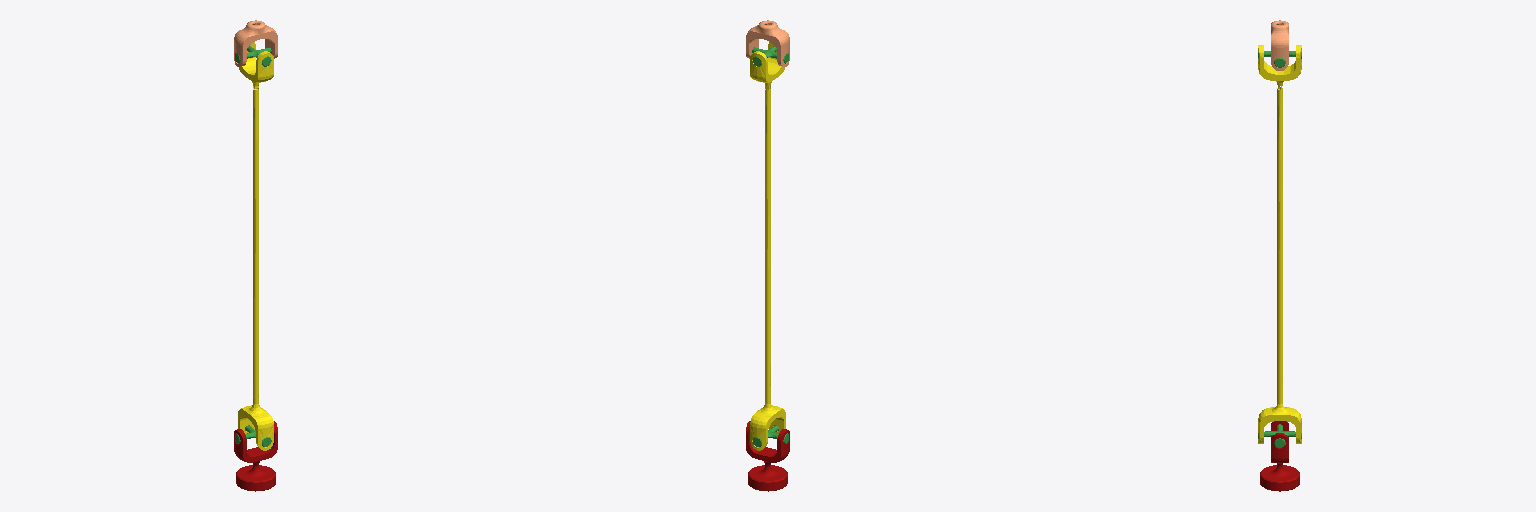
URDF robot description (armhum6):
<?xml version="1.0" encoding="utf-8"?>
<!-- This URDF was automatically created by SolidWorks to URDF Exporter! Originally created by Stephen Brawner ([email redacted]) 
     Commit Version: 1.6.0-1-g15f4949  Build Version: 1.6.7594.29634
     For more information, please see http://wiki.ros.org/sw_urdf_exporter -->
<robot
  name="armhum6">

<!--
  <link name="world" /> 
  <joint name="world_to_base_link" type="fixed">
    <parent link="world"/>
    <child link="base_link"/>
    <origin xyz="0 0 0.85" rpy="0 0 0"/>
  </joint>

  <link
    name="base_link">
    <inertial>
      <origin
        xyz="1.93248195223816E-15 -8.85402862138562E-15 -0.185059211902818"
        rpy="0 0 0" />
      <mass
        value="0.523412725104608" />
      <inertia
        ixx="0.0910156280985819"
        ixy="-1.89735380184971E-16"
        ixz="2.8165359896208E-17"
        iyy="0.0910136332593244"
        iyz="-4.53168684381061E-16"
        izz="0.126397324140064" />
    </inertial>
    <visual>
      <origin
        xyz="0 0 0"
        rpy="0 0 0" />
      <geometry>
        <mesh
          filename="package://armhum6/meshes/base_link.STL" />
      </geometry>
      <material
        name="">
        <color
          rgba="0.00784313725490196 0.23921568627451 0.823529411764706 1" />
      </material>
    </visual>
    <collision>
      <origin
        xyz="0 0 0"
        rpy="0 0 0" />
      <geometry>
        <mesh
          filename="package://armhum6/meshes/base_link.STL" />
      </geometry>
    </collision>
  </link>
  -->

  <link
    name="top-link">
    <inertial>
      <origin
        xyz="-4.67723785742002E-05 2.30554230845614E-08 0.0232375072219701"
        rpy="0 0 0" />
      <mass
        value="0.00734463434724172" />
      <inertia
        ixx="6.66675171615578E-07"
        ixy="2.37767693918994E-12"
        ixz="-1.96968750445307E-10"
        iyy="1.59431490534566E-06"
        iyz="2.24673253636865E-12"
        izz="1.2315954297594E-06" />
    </inertial>
    <visual>
      <origin
        xyz="0 0 0"
        rpy="0 0 0" />
      <geometry>
        <mesh
          filename="package://armhum6/meshes/top-link.STL" />
      </geometry>
      <material
        name="">
        <color
          rgba="1 0.690196078431373 0.509803921568627 1" />
      </material>
    </visual>
    <collision>
      <origin
        xyz="0 0 0"
        rpy="0 0 0" />
      <geometry>
        <mesh
          filename="package://armhum6/meshes/top-link.STL" />
      </geometry>
    </collision>
  </link>
<!--
  <joint
    name="joint1"
    type="continuous">
    <origin
      xyz="0 0 -0.051"
      rpy="0 0 0.0209138165636579" />
    <parent
      link="base_link" />
    <child
      link="top-link" />
    <axis
      xyz="0 0 1" />
    <limit
      lower="0"
      upper="6"
      effort="0"
      velocity="0" />
    <dynamics
      friction="0.008" />
  </joint>
-->
  <link
    name="crossbar1">
    <inertial>
      <origin
        xyz="1.00137396916167E-08 8.56077458921689E-10 6.40373767901714E-10"
        rpy="0 0 0" />
      <mass
        value="0.00235911157708547" />
      <inertia
        ixx="2.29651648984905E-07"
        ixy="8.58509279831178E-15"
        ixz="4.33752665624393E-15"
        iyy="4.41657972153878E-07"
        iyz="8.84534542379393E-16"
        izz="2.29651496122624E-07" />
    </inertial>
    <visual>
      <origin
        xyz="0 0 0"
        rpy="0 0 0" />
      <geometry>
        <mesh
          filename="package://armhum6/meshes/crossbar1.STL" />
      </geometry>
      <material
        name="">
        <color
          rgba="0.286274509803922 0.662745098039216 0.329411764705882 1" />
      </material>
    </visual>
    <collision>
      <origin
        xyz="0 0 0"
        rpy="0 0 0" />
      <geometry>
        <mesh
          filename="package://armhum6/meshes/crossbar1.STL" />
      </geometry>
    </collision>
  </link>
  
  <joint
    name="joint2"
    type="revolute">
    <origin
      xyz="0 0 0.008"
      rpy="1.5708 0 0" />
    <parent
      link="top-link" />
    <child
      link="crossbar1" />
    <axis
      xyz="1 0 0" />
    <limit
      lower="-1.5"
      upper="1.5"
      effort="2"
      velocity="2" />
    <dynamics
      friction="0.008" />
  </joint>
  <link
    name="middle-link">
    <inertial>
      <origin
        xyz="-3.62208064747099E-05 2.10896379700121E-08 -0.182316330263296"
        rpy="0 0 0" />
      <mass
        value="0.0188050348545265" />
      <inertia
        ixx="0.000409979396090837"
        ixy="8.57838434093389E-11"
        ixz="-1.17762824236184E-09"
        iyy="0.000411743915509089"
        iyz="4.54699290001078E-11"
        izz="2.29220461469508E-06" />
    </inertial>
    <visual>
      <origin
        xyz="0 0 0"
        rpy="0 0 0" />
      <geometry>
        <mesh
          filename="package://armhum6/meshes/middle-link.STL" />
      </geometry>
      <material
        name="">
        <color
          rgba="1 0.937254901960784 0.137254901960784 1" />
      </material>
    </visual>
    <collision>
      <origin
        xyz="0 0 0"
        rpy="0 0 0" />
      <geometry>
        <mesh
          filename="package://armhum6/meshes/middle-link.STL" />
      </geometry>
    </collision>
  </link>
  <joint
    name="joint3"
    type="revolute">
    <origin
      xyz="0 0 0"
      rpy="-1.5708 1.5708 0" />
    <parent
      link="crossbar1" />
    <child
      link="middle-link" />
    <axis
      xyz="1 0 0" />
    <limit
      lower="-1.5"
      upper="1.5"
      effort="2"
      velocity="2" />
    <dynamics
      friction="0.008" />
  </joint>
  <link
    name="crossbar2">
    <inertial>
      <origin
        xyz="1.00137396916167E-08 -8.56077486677265E-10 -6.40373733207245E-10"
        rpy="0 0 0" />
      <mass
        value="0.00235911157708547" />
      <inertia
        ixx="4.09739927419315E-07"
        ixy="-5.54410068536451E-14"
        ixz="8.96638089354031E-23"
        iyy="7.42166622150847E-07"
        iyz="8.26818556470318E-13"
        izz="4.09739648427647E-07" />
    </inertial>
    <visual>
      <origin
        xyz="0 0 0"
        rpy="0 0 0" />
      <geometry>
        <mesh
          filename="package://armhum6/meshes/crossbar2.STL" />
      </geometry>
      <material
        name="">
        <color
          rgba="0.286274509803922 0.662745098039216 0.329411764705882 1" />
      </material>
    </visual>
    <collision>
      <origin
        xyz="0 0 0"
        rpy="0 0 0" />
      <geometry>
        <mesh
          filename="package://armhum6/meshes/crossbar2.STL" />
      </geometry>
    </collision>
  </link>
  <joint
    name="joint4"
    type="continuous">
    <origin
      xyz="0 0 -0.364"
      rpy="-1.5708 0 3.1416" />
    <parent
      link="middle-link" />
    <child
      link="crossbar2" />
    <axis
      xyz="1 0 0" />
    <limit
      lower="-1.5"
      upper="1.5"
      effort="0"
      velocity="0" />
    <dynamics
      friction="0.0008" />
  </joint>
  <link
    name="end-effector">
    <inertial>
      <origin
        xyz="1.5247481298386E-08 -9.62803350934571E-10 -0.0310990514764574"
        rpy="0 0 0" />
      <mass
        value="0.04" />
      <inertia
        ixx="8.29194371078775E-06"
        ixy="2.44485731659268E-12"
        ixz="-10.74857545356207E-12"
        iyy="10.15110528669366E-06"
        iyz="6.95136243790226E-13"
        izz="4.54716494152254E-06" />
    </inertial>
    <visual>
      <origin
        xyz="0 0 0"
        rpy="0 0 0" />
      <geometry>
        <mesh
          filename="package://armhum6/meshes/end-effector.STL" />
      </geometry>
      <material
        name="">
        <color
          rgba="0.694117647058824 0.0980392156862745 0.0980392156862745 1" />
      </material>
    </visual>
    <collision>
      <origin
        xyz="0 0 0"
        rpy="0 0 0" />
      <geometry>
        <mesh
          filename="package://armhum6/meshes/end-effector.STL" />
      </geometry>
    </collision>
  </link>
  <joint
    name="joint5"
    type="continuous">
    <origin
      xyz="0 0 0"
      rpy="1.5708 1.5708 0" />
    <parent
      link="crossbar2" />
    <child
      link="end-effector" />
    <axis
      xyz="1 0 0" />
    <limit
      lower="-1.5"
      upper="1.5"
      effort="0"
      velocity="0" />
    <dynamics
      friction="0.0008" />
  </joint>

  <!-- Transmission for control-->
  <transmission name="joint2_tran">
    <type>transmission_interface/SimpleTransmission</type>
    <joint name="joint2">
      <hardwareInterface>hardware_interface/EffortJointInterface</hardwareInterface>
    </joint>
    <actuator name="joint2_actr">
      <hardwareInterface>hardware_interface/EffortJointInterface</hardwareInterface>
      <mechanicalReduction>1</mechanicalReduction>
    </actuator>
  </transmission>

  <transmission name="joint3_tran">
    <type>transmission_interface/SimpleTransmission</type>
    <joint name="joint3">
      <hardwareInterface>hardware_interface/EffortJointInterface</hardwareInterface>
    </joint>
    <actuator name="joint3_actr">
      <hardwareInterface>hardware_interface/EffortJointInterface</hardwareInterface>
      <mechanicalReduction>1</mechanicalReduction>
    </actuator>
  </transmission>

  <gazebo>
    <plugin name="gazebo_ros_control" filename="libgazebo_ros_control.so">
      <robotNamespace>/armhum6</robotNamespace>
    </plugin>
  </gazebo>


</robot>

--- Render facts (derived) ---
3 views of the same robot in one strip: view 1: azimuth 30°, elevation 25°; view 2: azimuth 150°, elevation 25°; view 3: azimuth 270°, elevation 25° (orthographic).
Model armhum6 with 5 links and 4 joints (2 revolute, 2 continuous), rooted at top-link, posed all joints at 0.
Links seen in each view (by area): view 1: middle-link, end-effector, top-link; view 2: middle-link, end-effector, top-link; view 3: middle-link, end-effector, top-link.
Boxes of the visible links, x1,y1,x2,y2 form: middle-link: (238,42,273,450); end-effector: (234,421,277,491); top-link: (234,20,277,66); middle-link: (750,42,785,450); end-effector: (746,421,789,491); top-link: (746,20,789,66); middle-link: (1258,45,1301,443); end-effector: (1260,421,1299,491); top-link: (1271,20,1288,70).
Size in the robot's own frame: 0.038 by 0.038 by 0.44 metres.
5 mesh visuals loaded from 5 distinct referenced files (5 binary STL).
